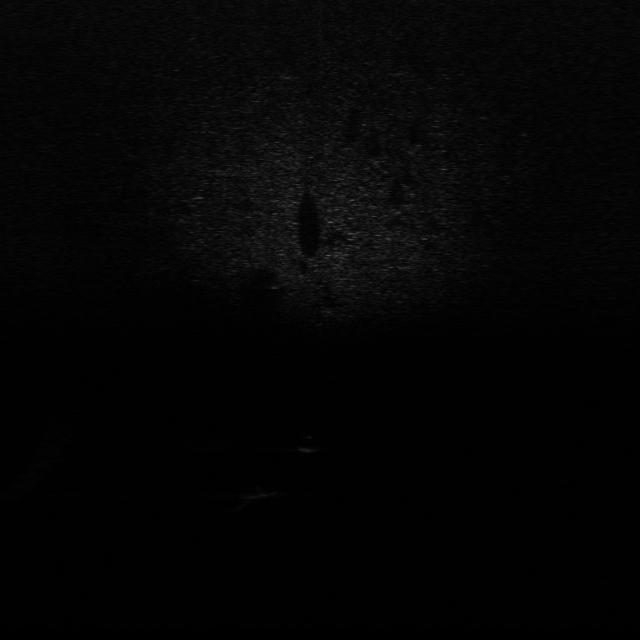ball: (294, 433, 322, 455)
square cage: (241, 485, 288, 506)
